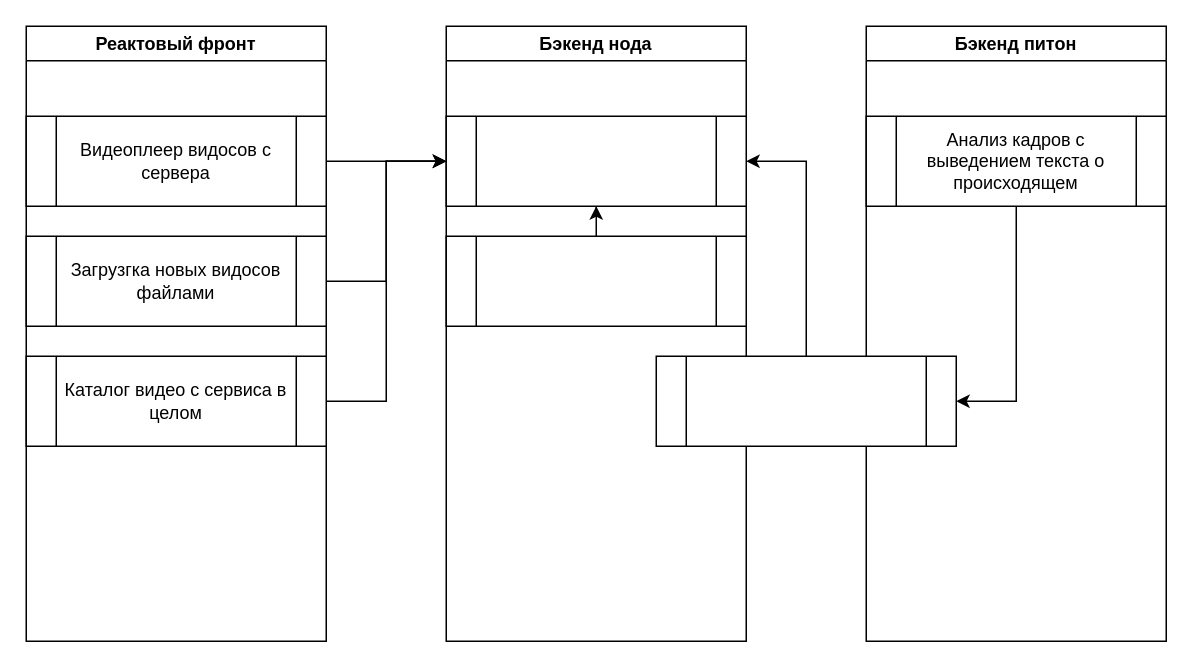
Image size: 1193x668. Some labels were removed from this diagram. Each missing label, with the centre of its shape:
"База со всеми видосами" belongs at [595,160].
"Механика озвучки текста и наложения его на видео со сведением таймингов" belongs at [805,400].
"Парсинг существующих сайтов с тифлокомментариями" belongs at [595,280].
